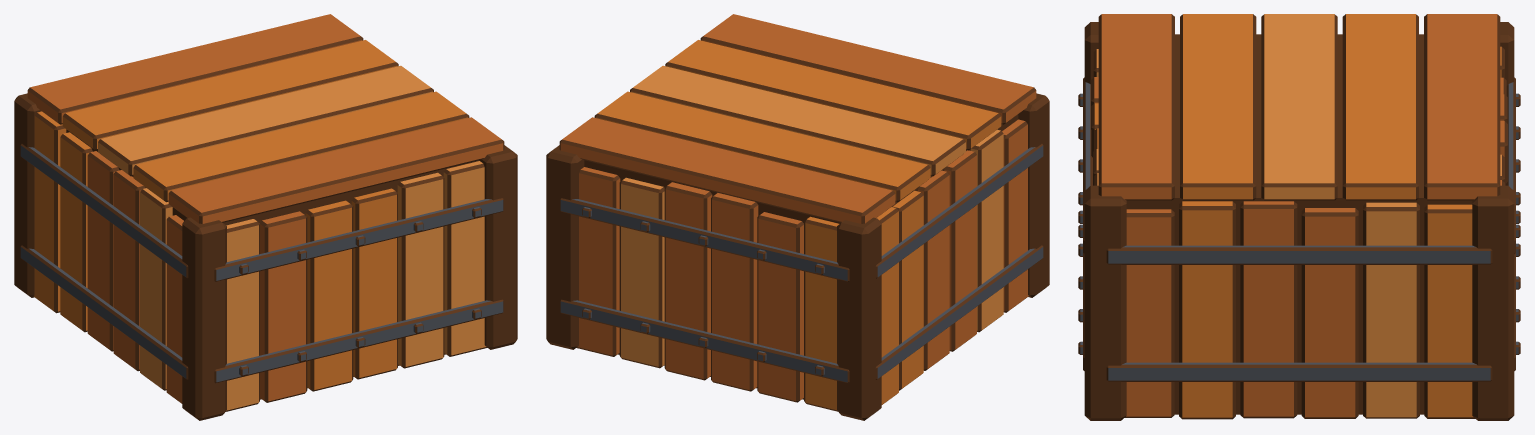
File: block_wood_body.glb
3 renders of one model, left to right at view 1: azimuth 30°, elevation 25°; view 2: azimuth 150°, elevation 25°; view 3: azimuth 270°, elevation 25°, orthographic. The views are drawn at different scales.
Visible parts, largest first — view 1: WoodBody; view 2: WoodBody; view 3: WoodBody.
Part boxes in pixels (x1,y1,x2,y2): WoodBody: [14, 14, 517, 420]; WoodBody: [546, 14, 1049, 420]; WoodBody: [1078, 14, 1520, 420].
Size of the model in its own units: 1.34 by 0.8 by 1.37.
